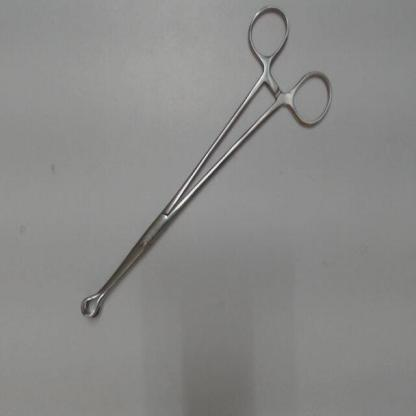8 Babcock Tissue Forceps: (75, 2, 337, 326)
